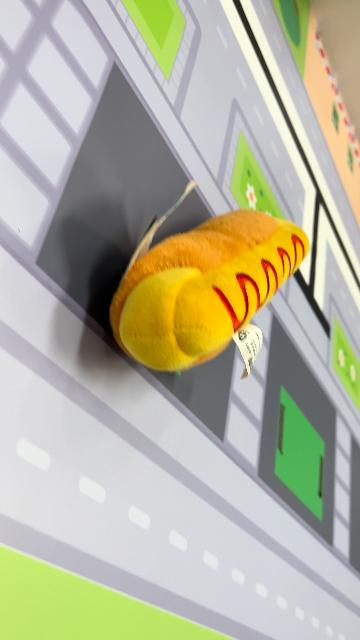hotdog: (108, 205, 312, 377)
